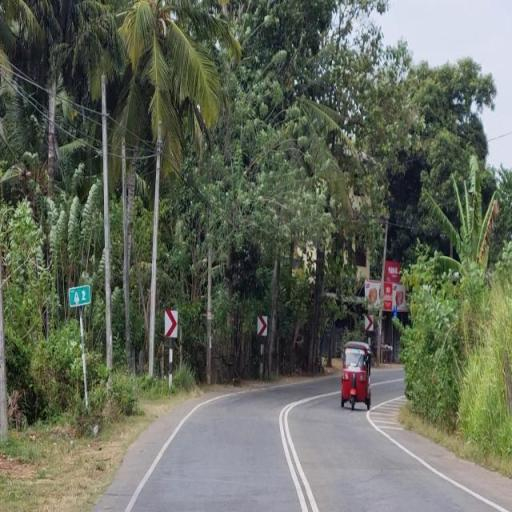double_white_line: (278, 394, 324, 512)
